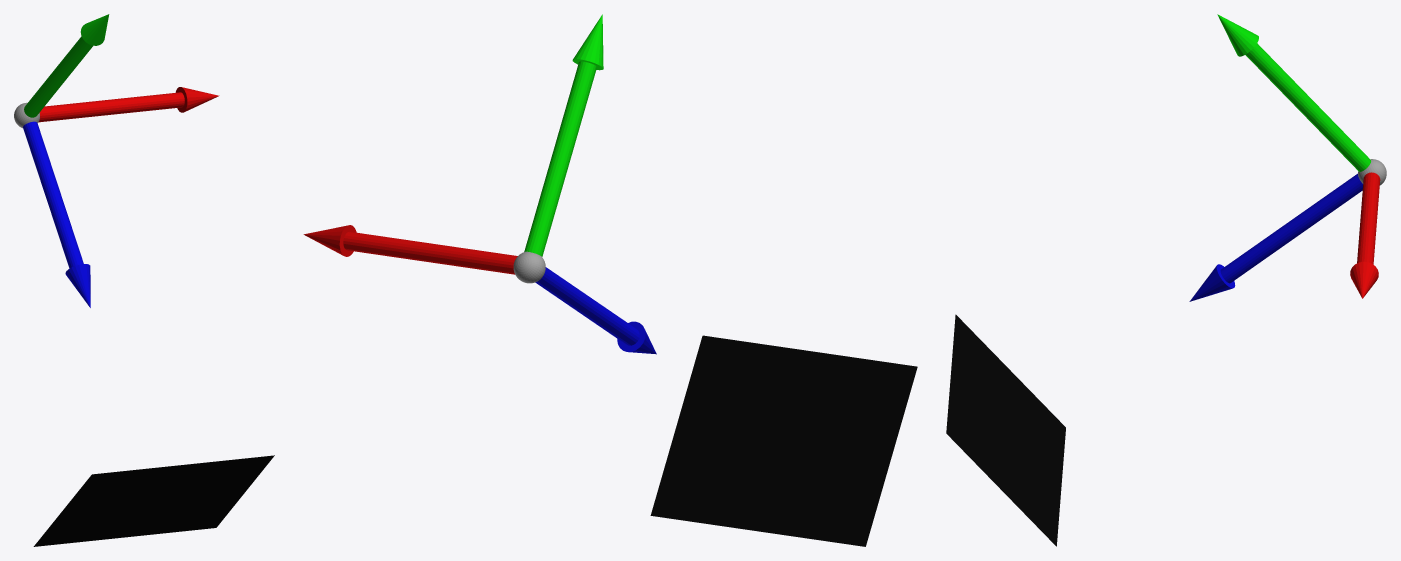
3 views of the same model, side by side, from view 1: azimuth 30°, elevation 25°; view 2: azimuth 150°, elevation 25°; view 3: azimuth 270°, elevation 25° (orthographic). The views are drawn at different scales.
Bounding box in the file's own units: 0.2119 × 0.2955 × 0.2292.
